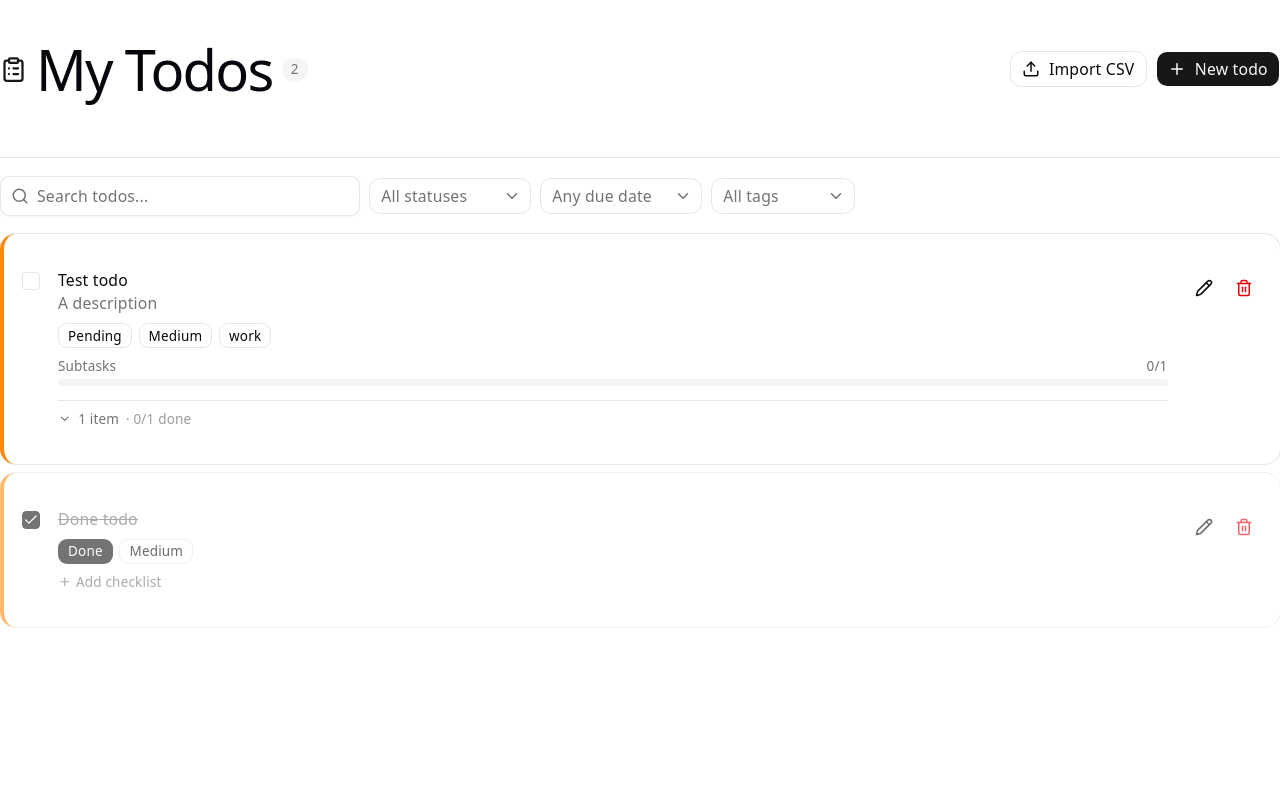
TodoList › opens create modal when New Todo is clicked
Expected: the text "Test todo" is shown, [58, 269, 128, 291]
Click the button "New todo": [1218, 69] box [1156, 51, 1279, 87]
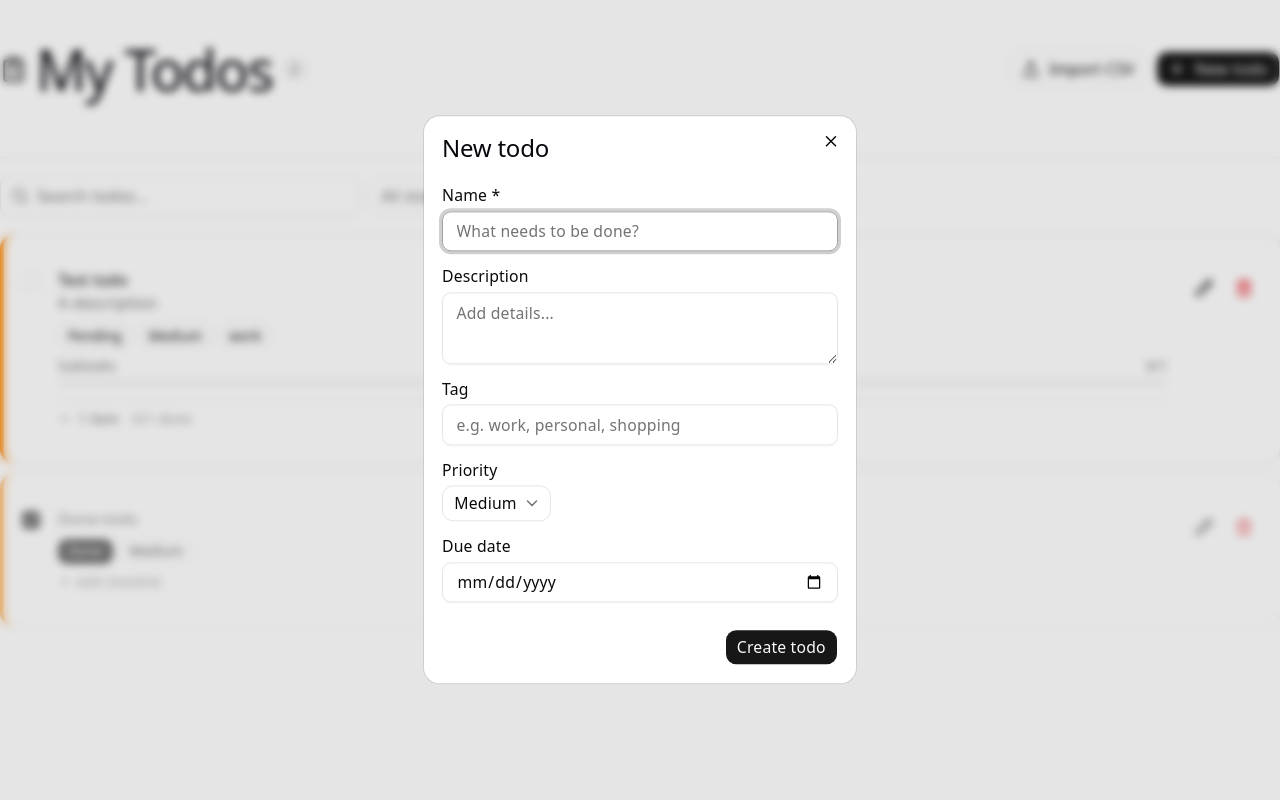
Now the heading "New todo" is shown, box [442, 131, 549, 164]
